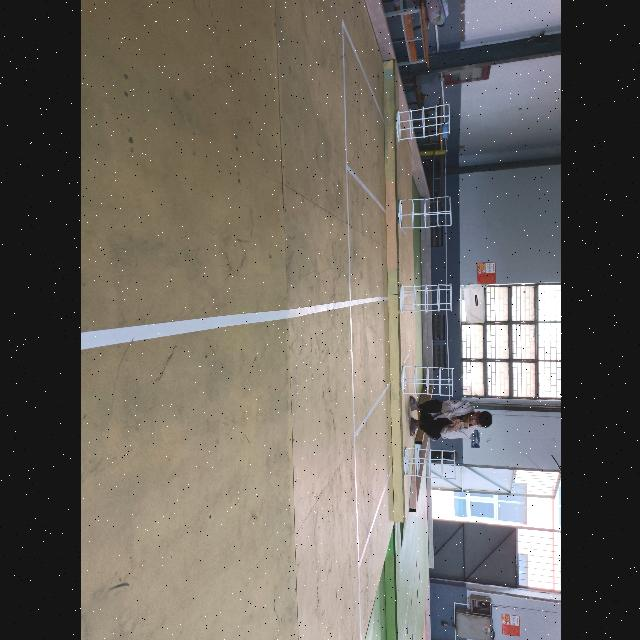S: (394, 100, 451, 144), (396, 194, 452, 230), (402, 446, 456, 480), (398, 365, 454, 397), (396, 284, 452, 314)
